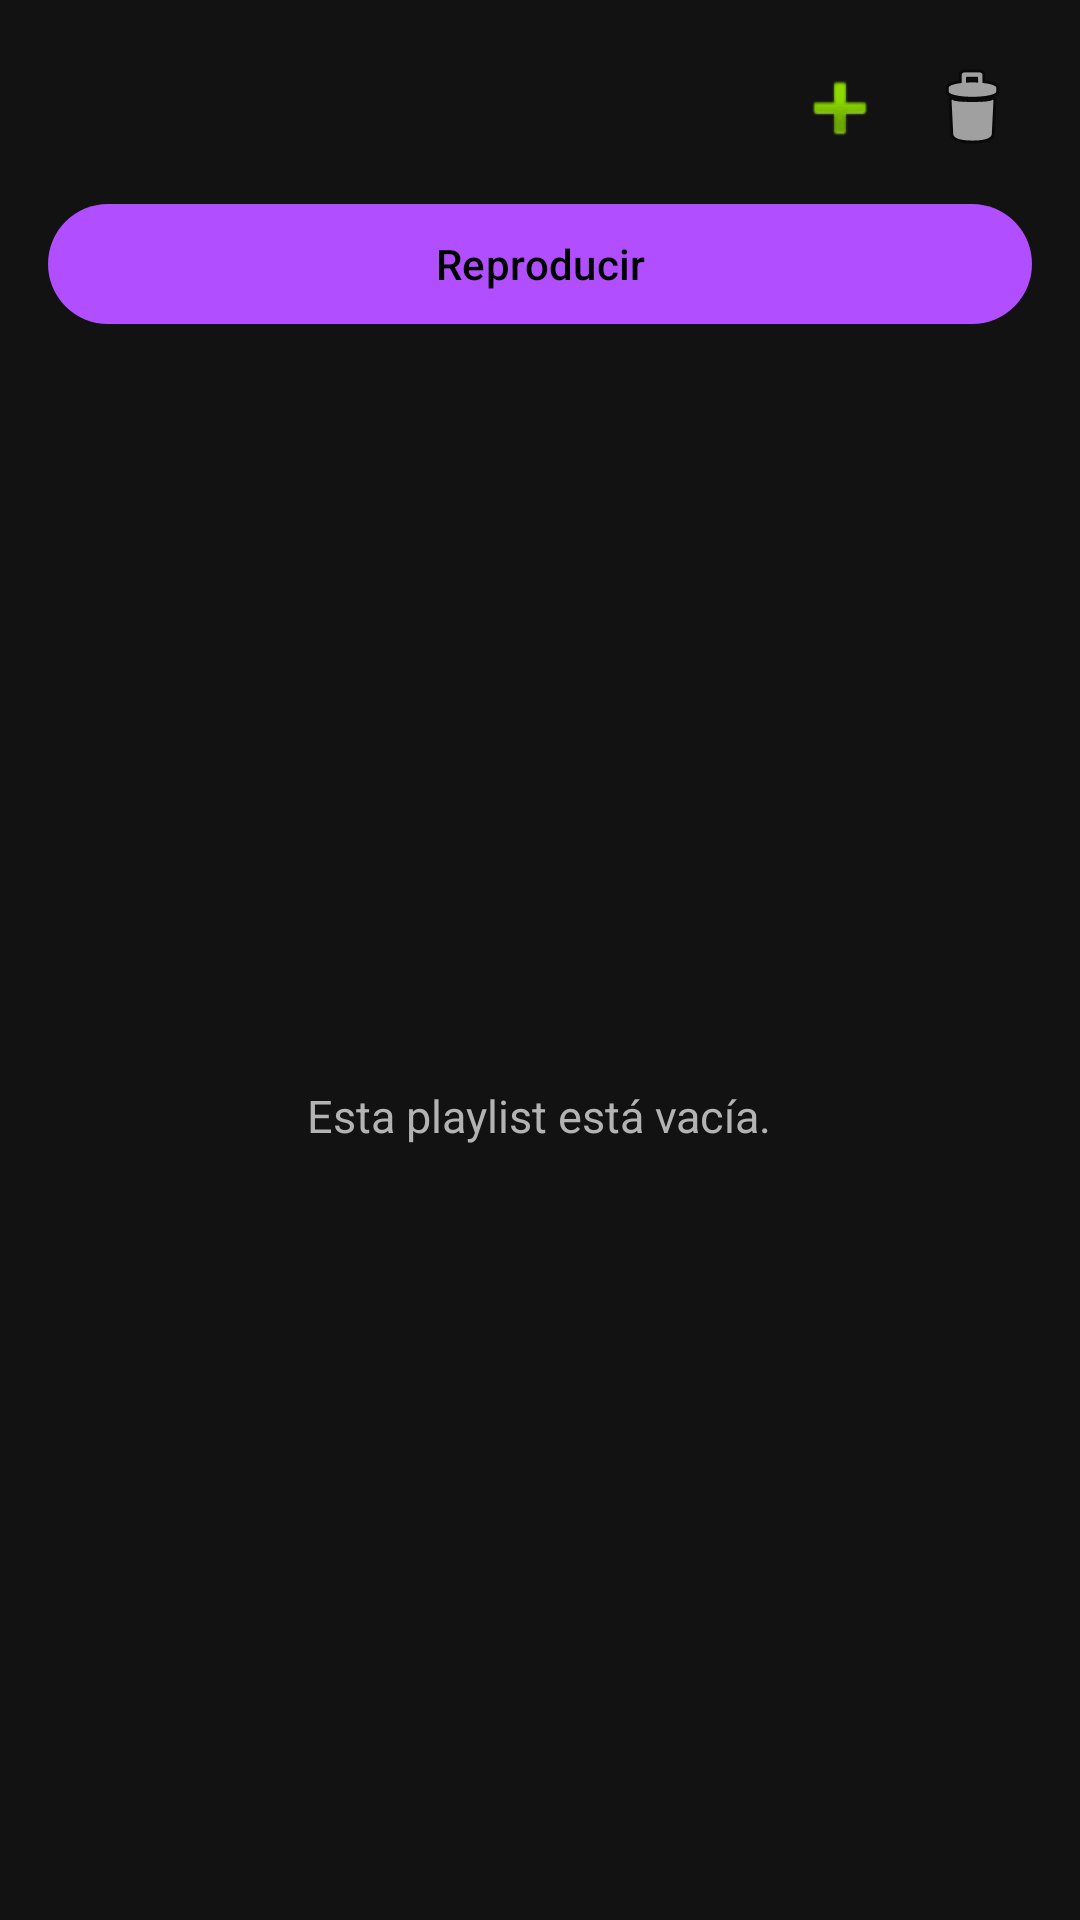

Icon click points for this 1080×1920 phone screenshot, format [x,y]:
Añadir canciones: [840,108]
Borrar: [972,106]
